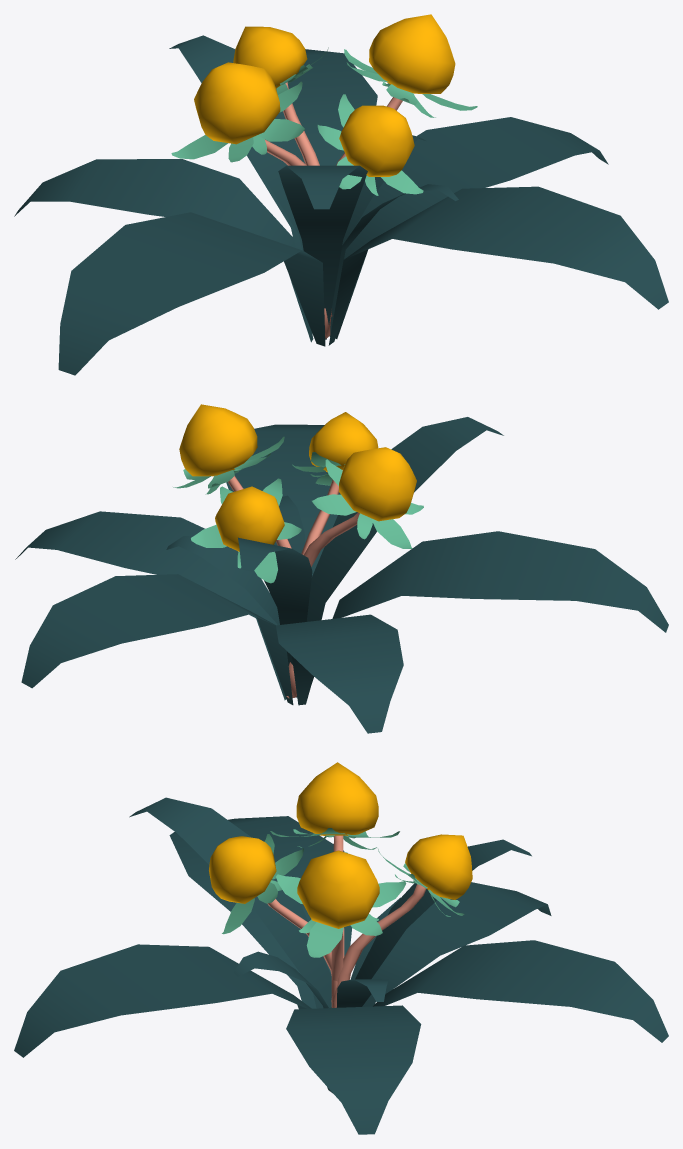
File: C_FruitOfJoy_3.fbx
3 renders of one model, top to bottom at view 1: azimuth 30°, elevation 25°; view 2: azimuth 150°, elevation 25°; view 3: azimuth 270°, elevation 25°, orthographic. The views are drawn at different scales.
Parts seen in each view (by area): view 1: Cone.003; view 2: Cone.003; view 3: Cone.003.
Boxes of the visible parts, x1=… form: Cone.003: x1=14, y1=14, x2=668, y2=375; Cone.003: x1=15, y1=404, x2=668, y2=733; Cone.003: x1=14, y1=762, x2=668, y2=1134.
Bounding box in the file's own units: 177 × 80.69 × 171.
